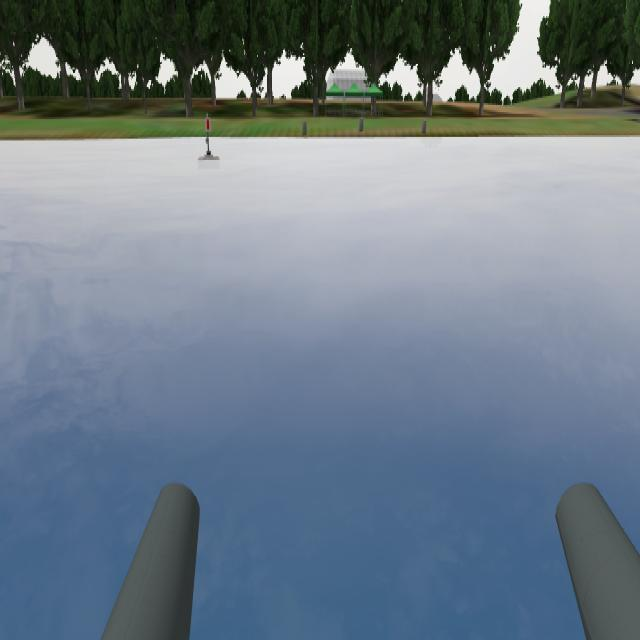red_pole: (200, 113, 215, 135)
